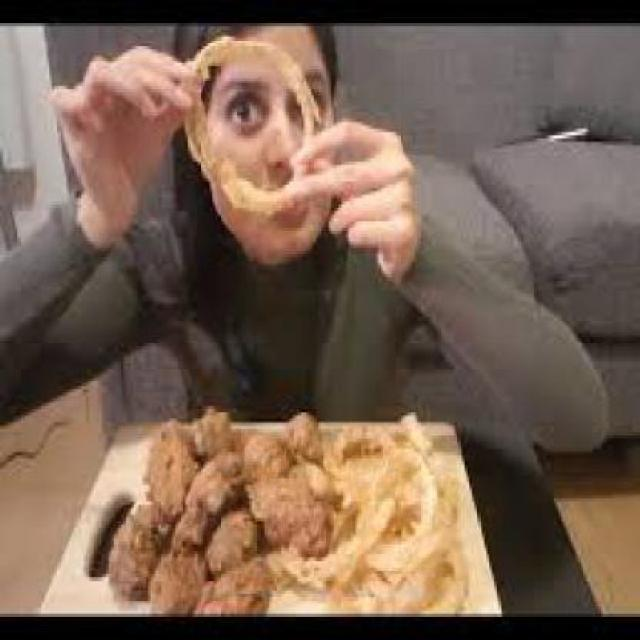chicken wings: (104, 402, 328, 610)
onion rings: (292, 405, 470, 604), (170, 26, 336, 222)
